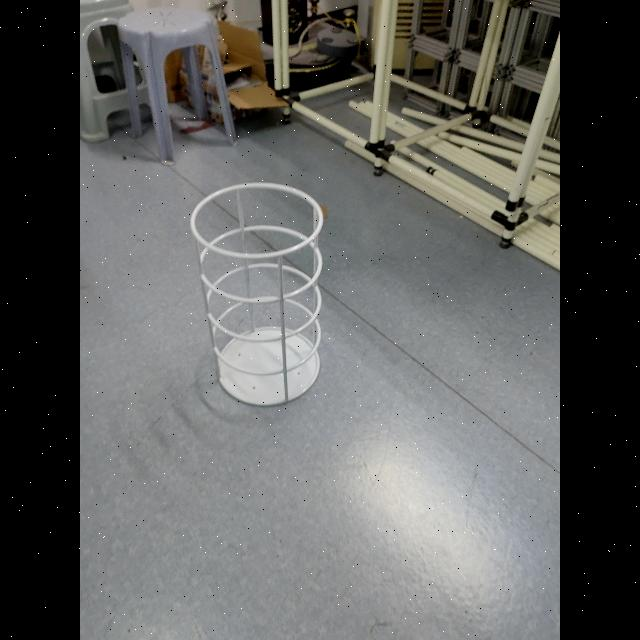S: (185, 178, 332, 412)
